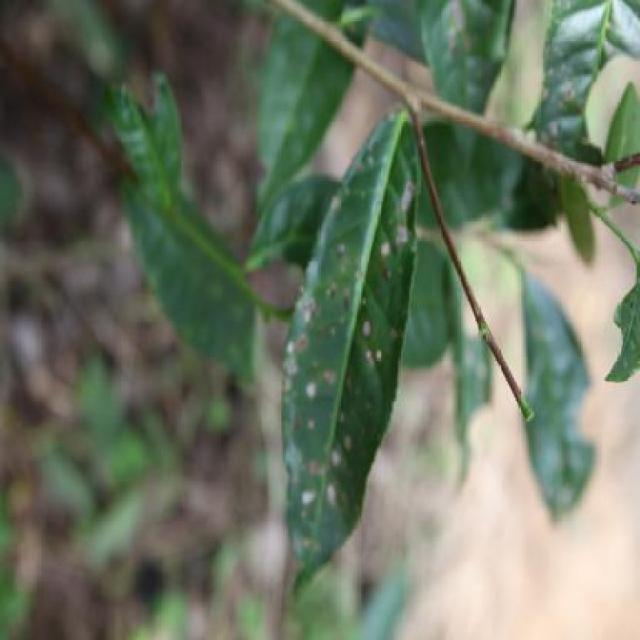Leaf rust of tea: (260, 82, 435, 570)
